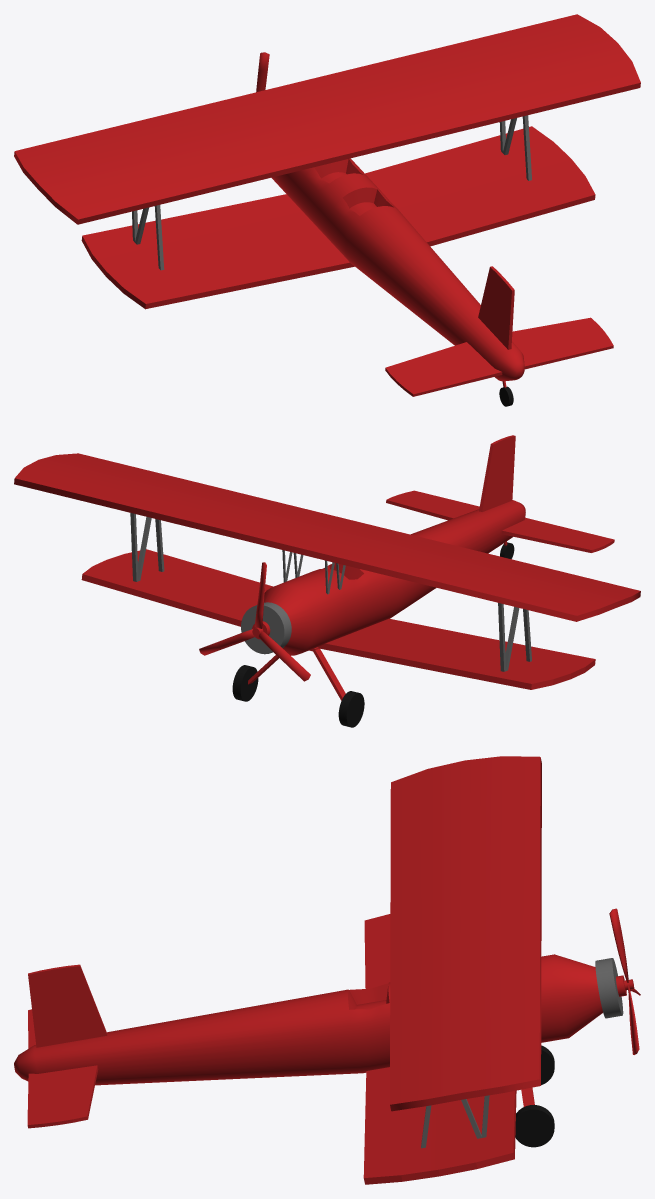
File: biplane.fbx
3 renders of one model, top to bottom at view 1: azimuth 30°, elevation 25°; view 2: azimuth 150°, elevation 25°; view 3: azimuth 270°, elevation 25°, orthographic. The views are drawn at different scales.
Parts seen in each view (by area): view 1: Cube.046, Cube.045, Cylinder.100, Cube.047, Cube.048, Cube.042; view 2: Cube.046, Cube.045, Cylinder.100, Cube.047, Cube.042, Cube.048, Cube.044, Cylinder.087, Cylinder.099, Cube.043, Cube.039; view 3: Cube.046, Cylinder.100, Cube.045, Cube.048, Cube.047, Cylinder.087, Cylinder.099, Cube.044, Cube.042.
Part boxes in pixels (x1=…): Cube.046: x1=14, y1=14, x2=640, y2=224; Cube.045: x1=81, y1=126, x2=595, y2=309; Cylinder.100: x1=271, y1=158, x2=524, y2=381; Cube.047: x1=385, y1=317, x2=613, y2=396; Cube.048: x1=478, y1=266, x2=514, y2=349; Cube.042: x1=132, y1=115, x2=531, y2=270; Cube.046: x1=14, y1=453, x2=640, y2=621; Cube.045: x1=81, y1=549, x2=595, y2=689; Cylinder.100: x1=264, y1=500, x2=525, y2=655; Cube.047: x1=386, y1=490, x2=614, y2=552; Cube.042: x1=130, y1=513, x2=531, y2=671; Cube.048: x1=479, y1=435, x2=515, y2=511; Cube.044: x1=199, y1=562, x2=310, y2=681; Cylinder.087: x1=232, y1=665, x2=364, y2=727; Cylinder.099: x1=241, y1=602, x2=291, y2=654; Cube.043: x1=282, y1=550, x2=345, y2=594; Cube.039: x1=248, y1=647, x2=345, y2=700; Cube.046: x1=390, y1=756, x2=541, y2=1111; Cylinder.100: x1=14, y1=954, x2=602, y2=1085; Cube.045: x1=363, y1=914, x2=516, y2=1184; Cube.048: x1=28, y1=964, x2=107, y2=1047; Cube.047: x1=27, y1=1009, x2=98, y2=1128; Cylinder.087: x1=515, y1=1045, x2=554, y2=1147; Cylinder.099: x1=595, y1=958, x2=623, y2=1018; Cube.044: x1=609, y1=908, x2=640, y2=1054; Cube.042: x1=421, y1=1095, x2=489, y2=1148.
Bounding box in the file's own units: 1662 × 482 × 1326.
